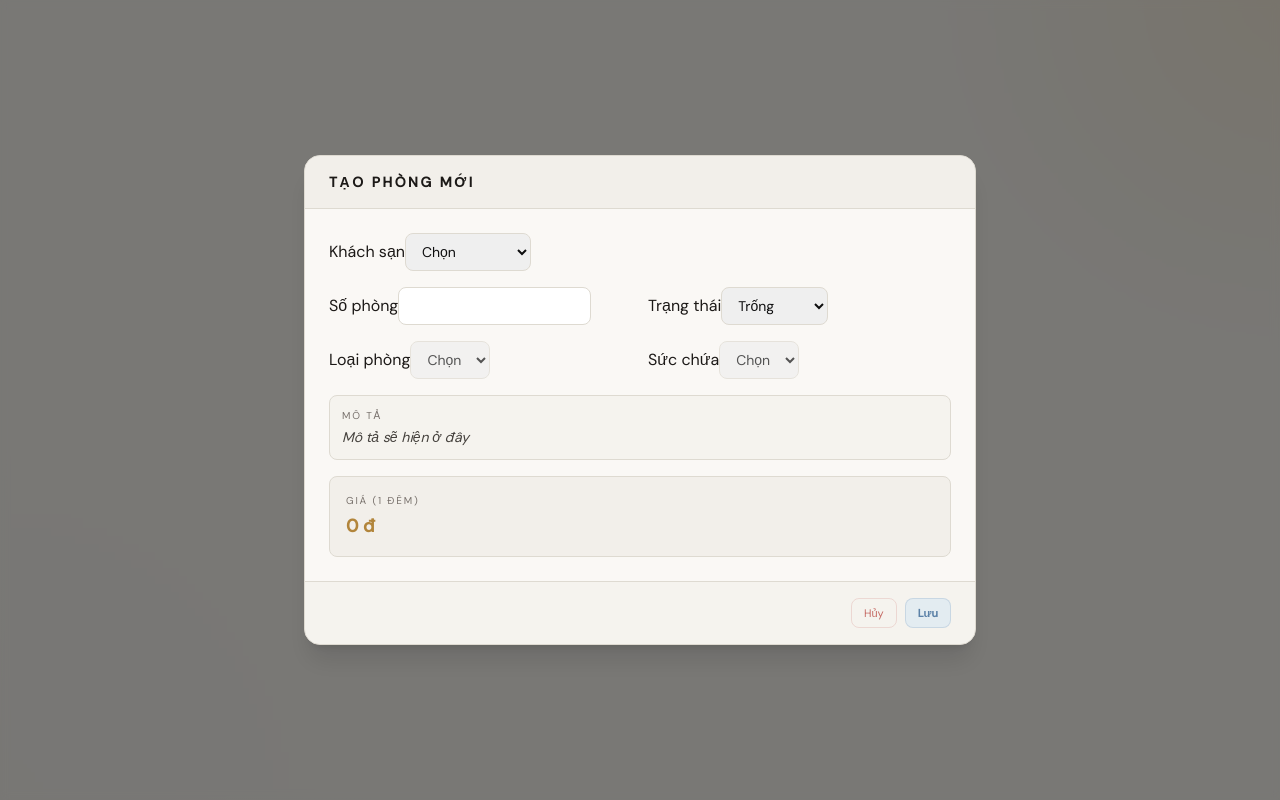
RoomModal – chế độ tạo mới › chọn sức chứa → hiển thị đúng giá và mô tả
This screenshot has width=1280, height=800.
Select "Khách sạn A" in the dropdown next to "Khách sạn". click: (468, 252)
box: [405,233,531,271]
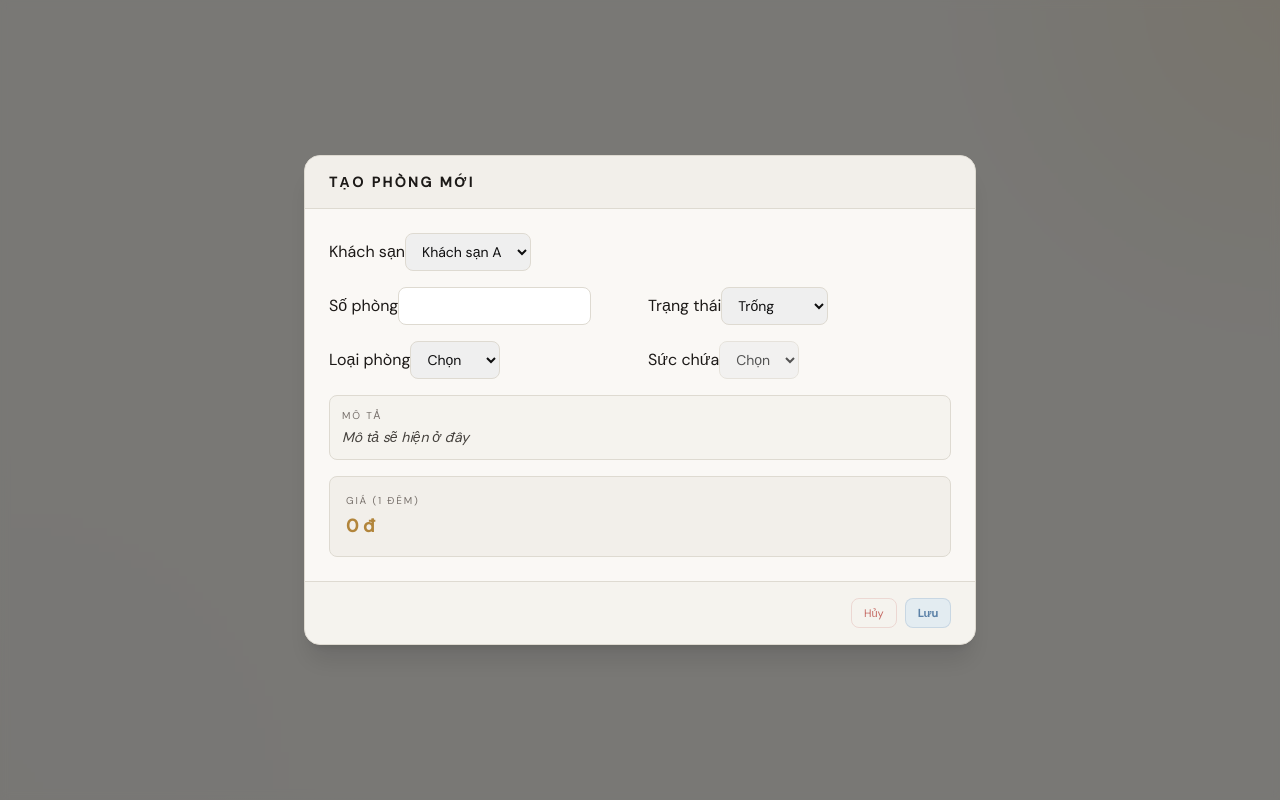
Select "Deluxe" in the dropdown next to "Loại phòng". click: (455, 360)
box: [410,341,500,379]
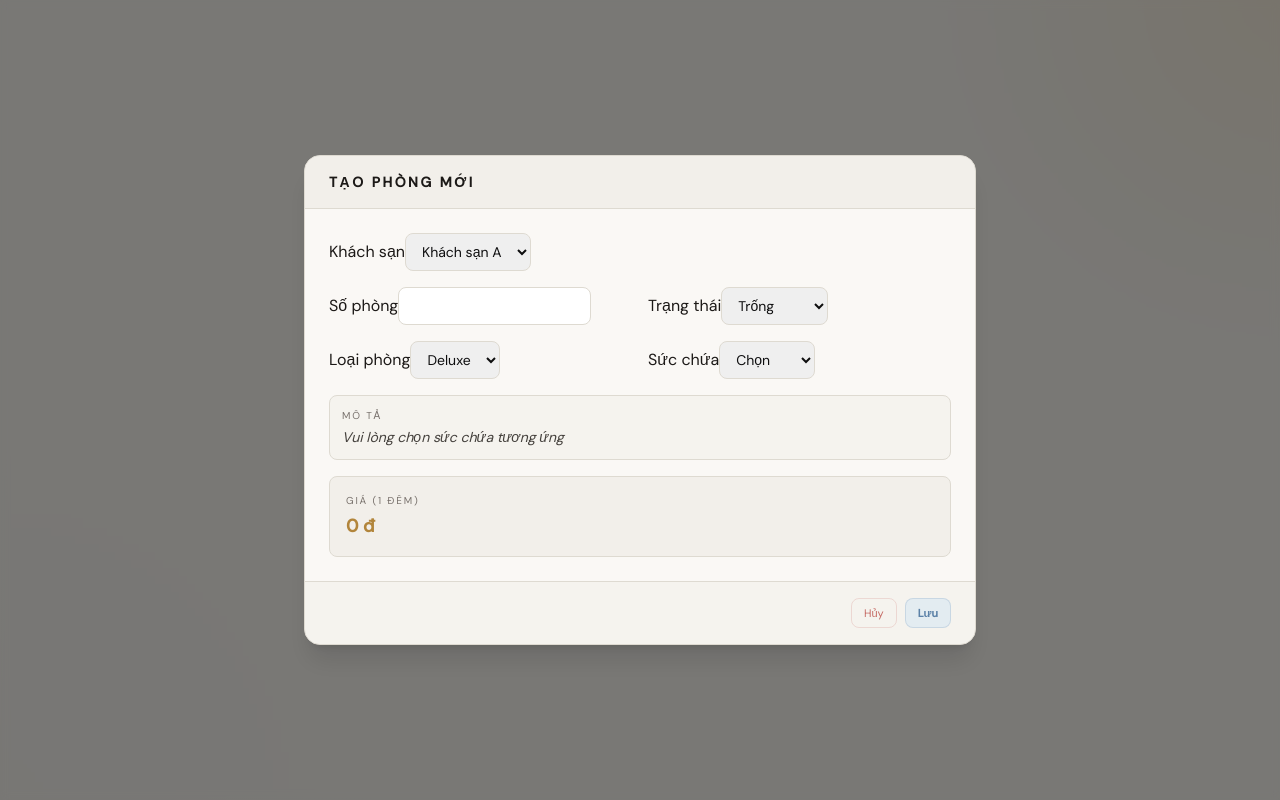
Select "2 người" in the 4th dropdown. click: (767, 360)
box: [719,341,815,379]
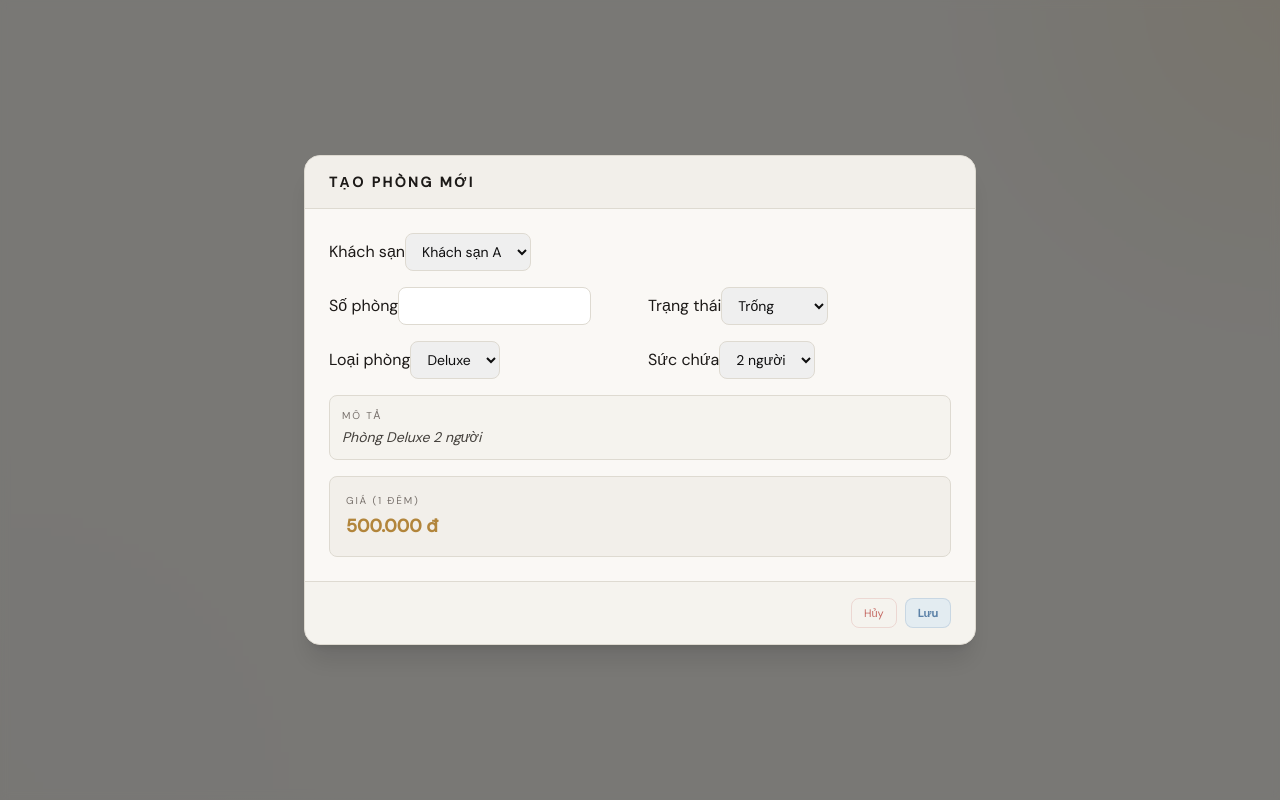
Check: the text "500.000 đ" is shown, box [346,514,438,538]
Check: the text "Phòng Deluxe 2 người" is shown, box [342,428,481,446]
